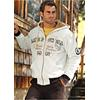abbigliamento_uomo: (15, 18, 82, 85)
